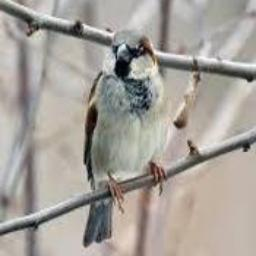Sparrow: (82, 28, 167, 246)
